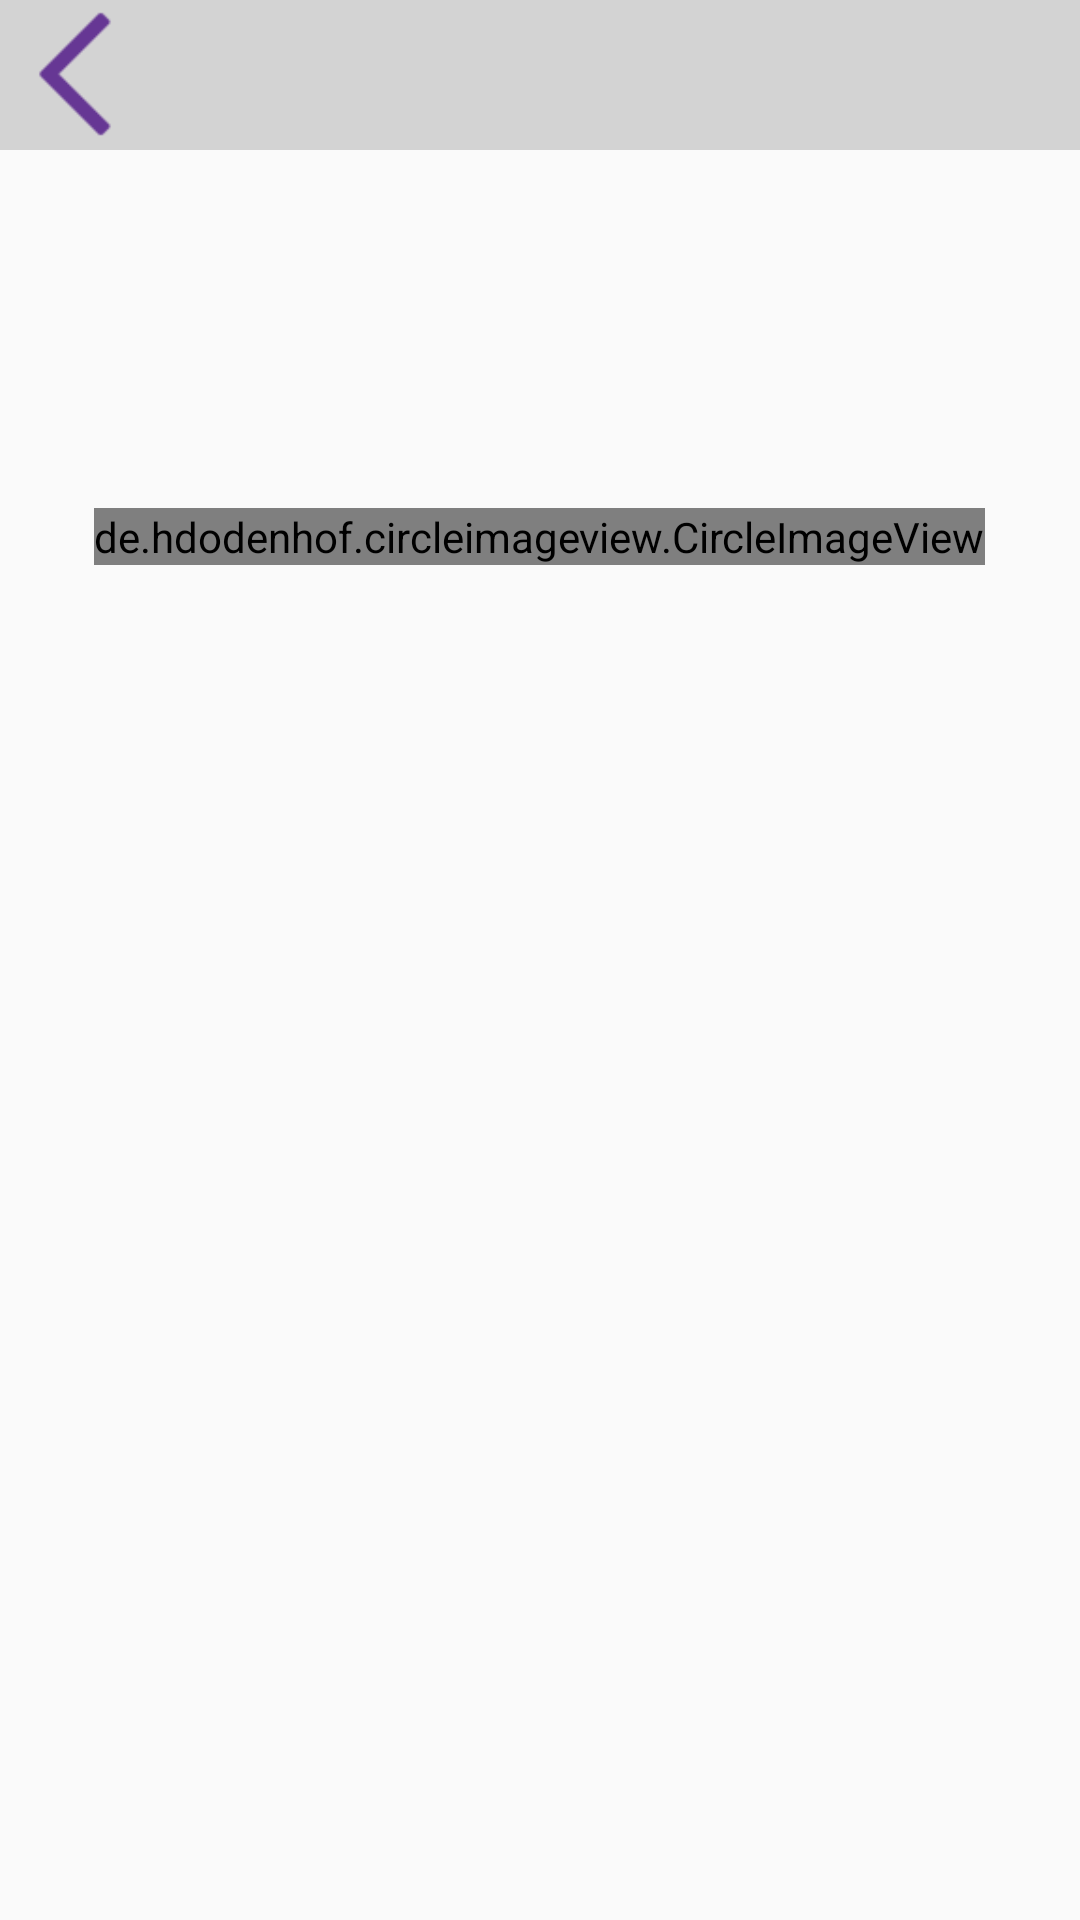

Screen size 1080 × 1920. Icon name, then its center in pixels as point (x, y):
back: point (75, 74)
